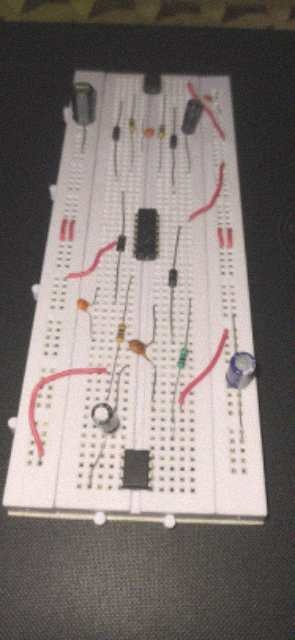capacitor: (69, 81, 96, 128), (226, 351, 256, 390), (91, 402, 119, 435), (181, 100, 204, 136), (128, 339, 151, 360), (76, 299, 92, 313), (143, 127, 155, 138), (204, 95, 215, 104)
resistor: (177, 347, 189, 369), (117, 322, 127, 344), (159, 124, 165, 140), (129, 118, 135, 132)
